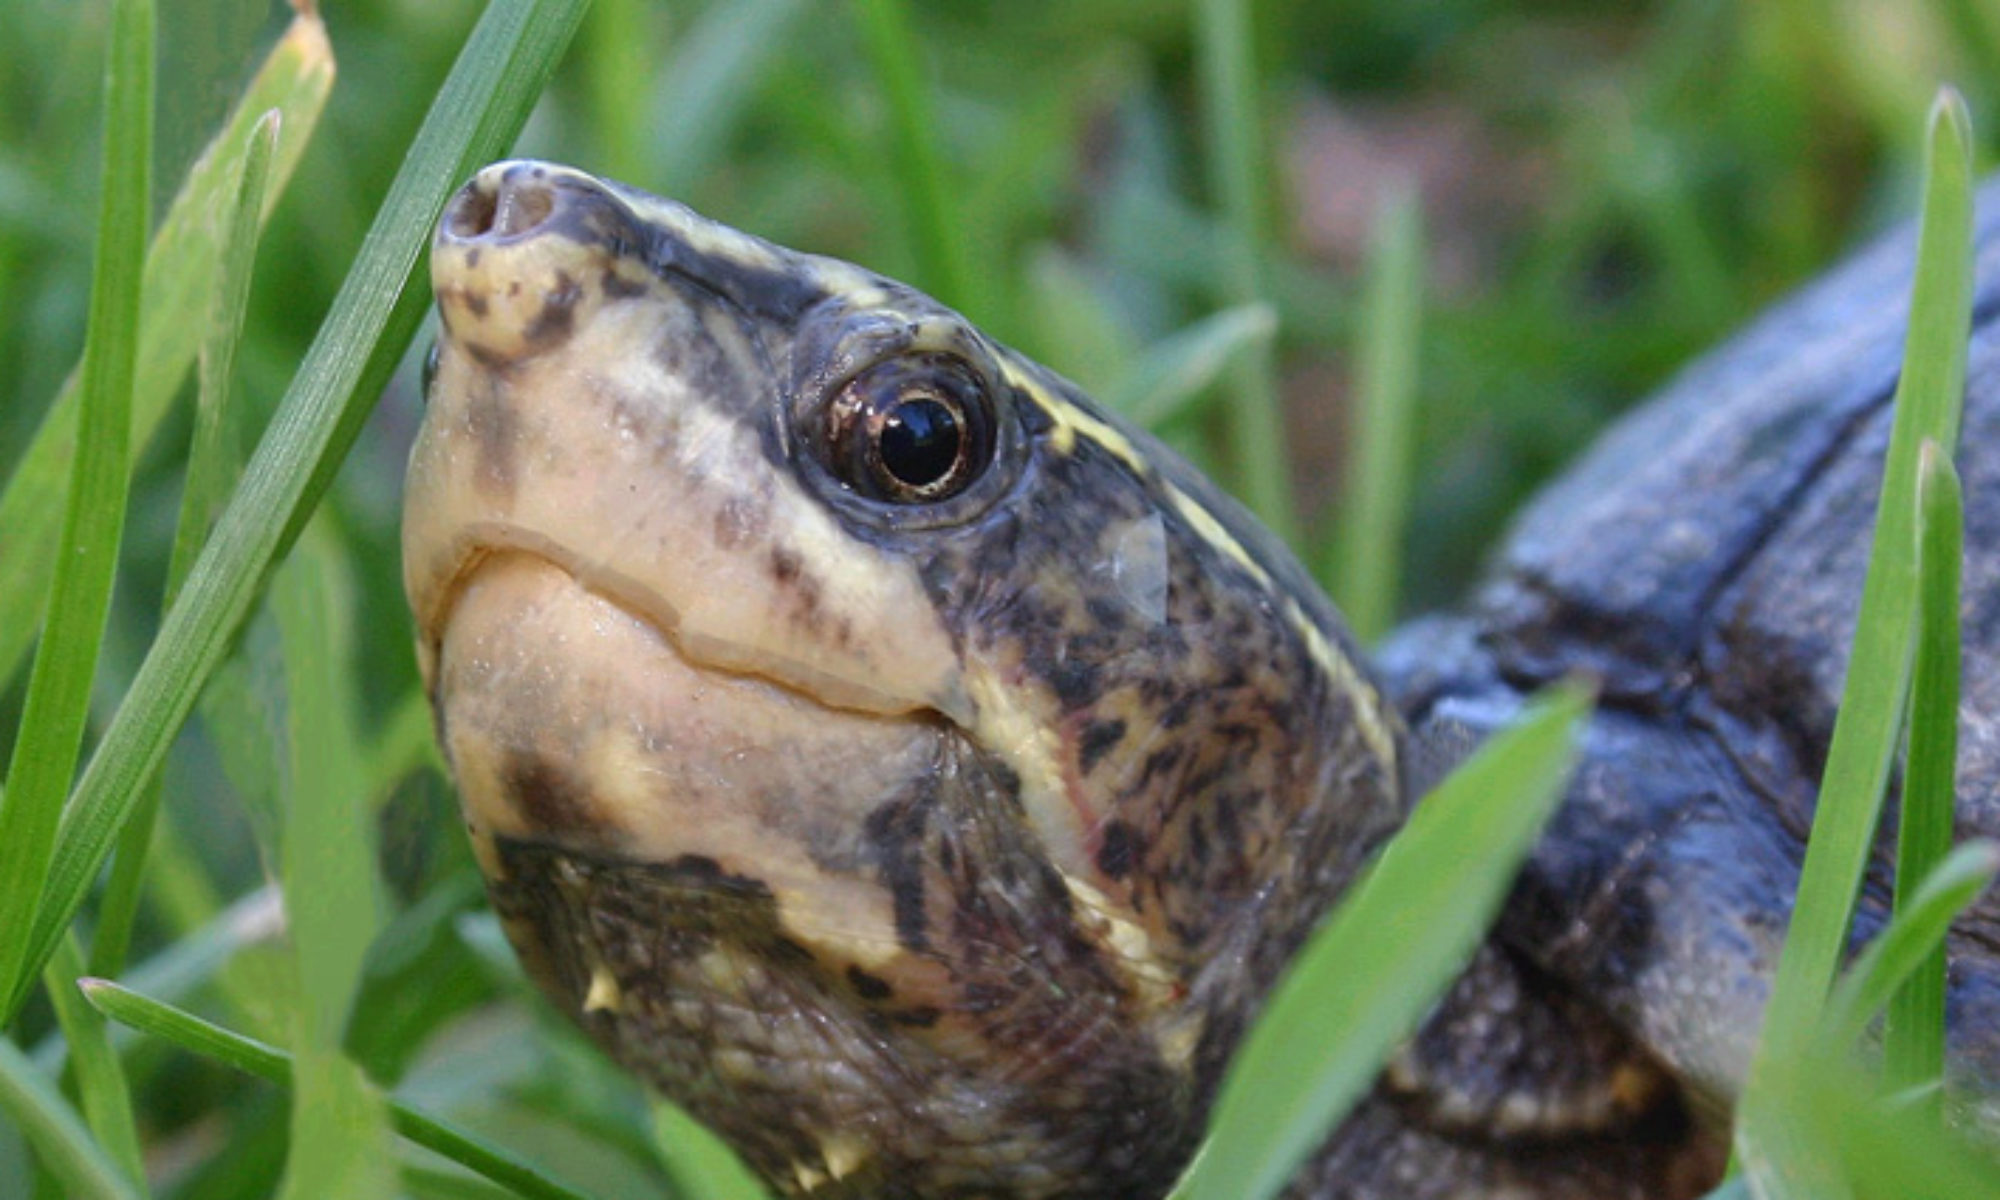eye: (771, 294, 1029, 534)
mouth: (386, 507, 989, 847)
